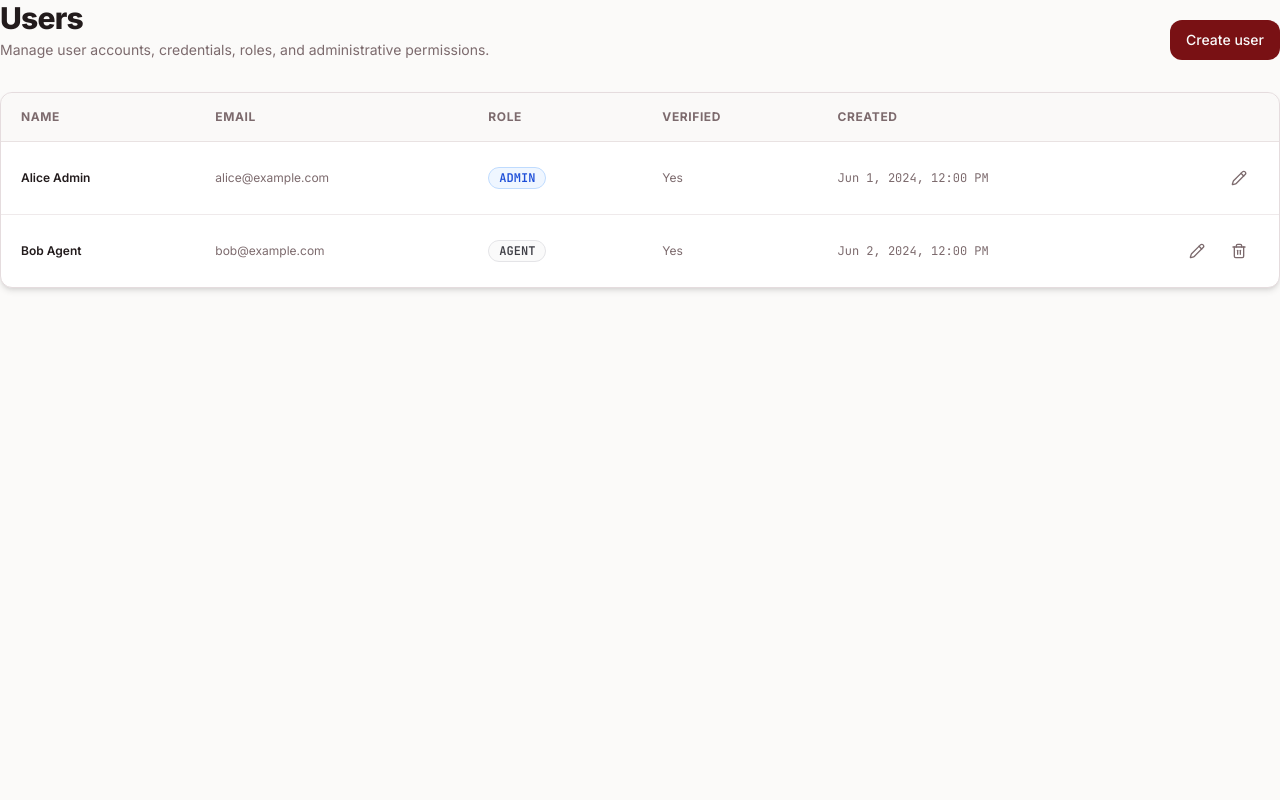
UsersPage › opens the create-user dialog when the toolbar button is clicked
Expected: the text "Alice Admin" is shown, 1,142 -> 195,214
Click the button "Create user". click: (1225, 40)
box: 1170,20 -> 1279,60
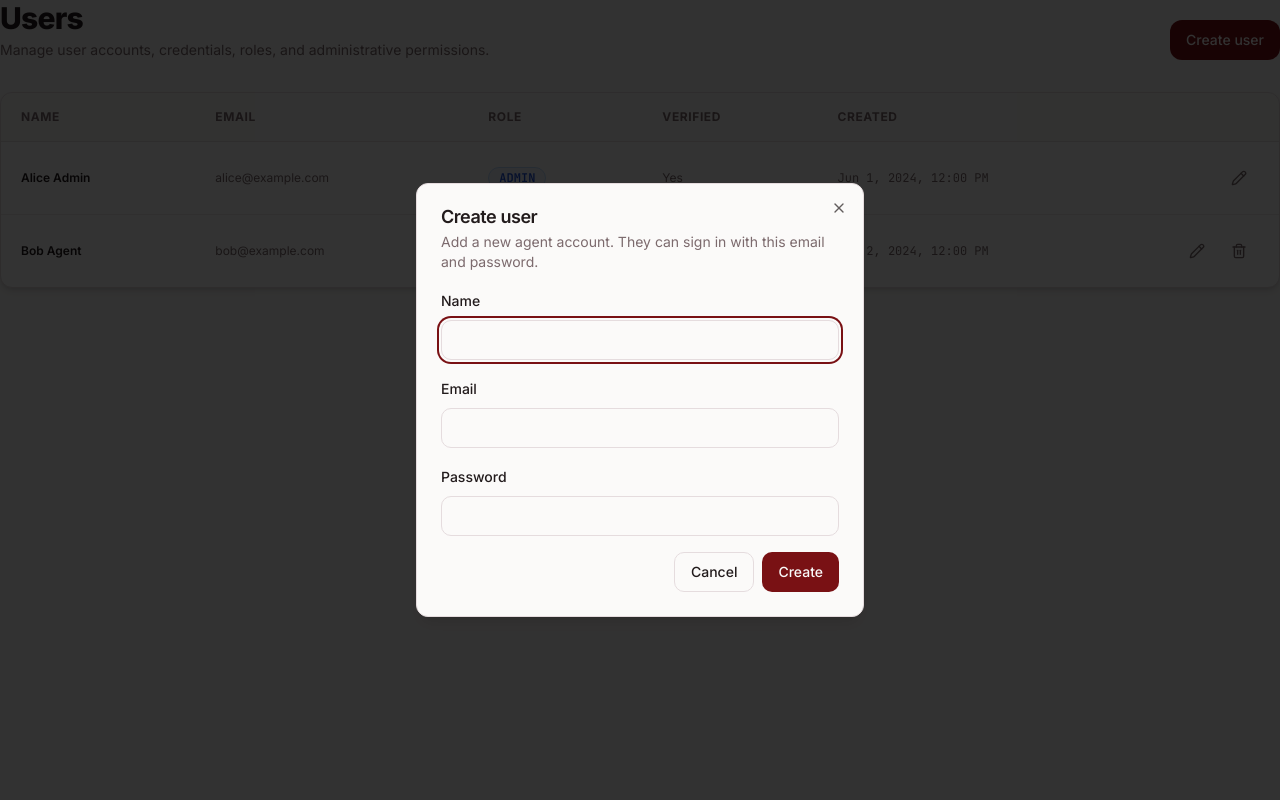
Now the dialog "Create user" is shown, box 416,183 -> 864,617
